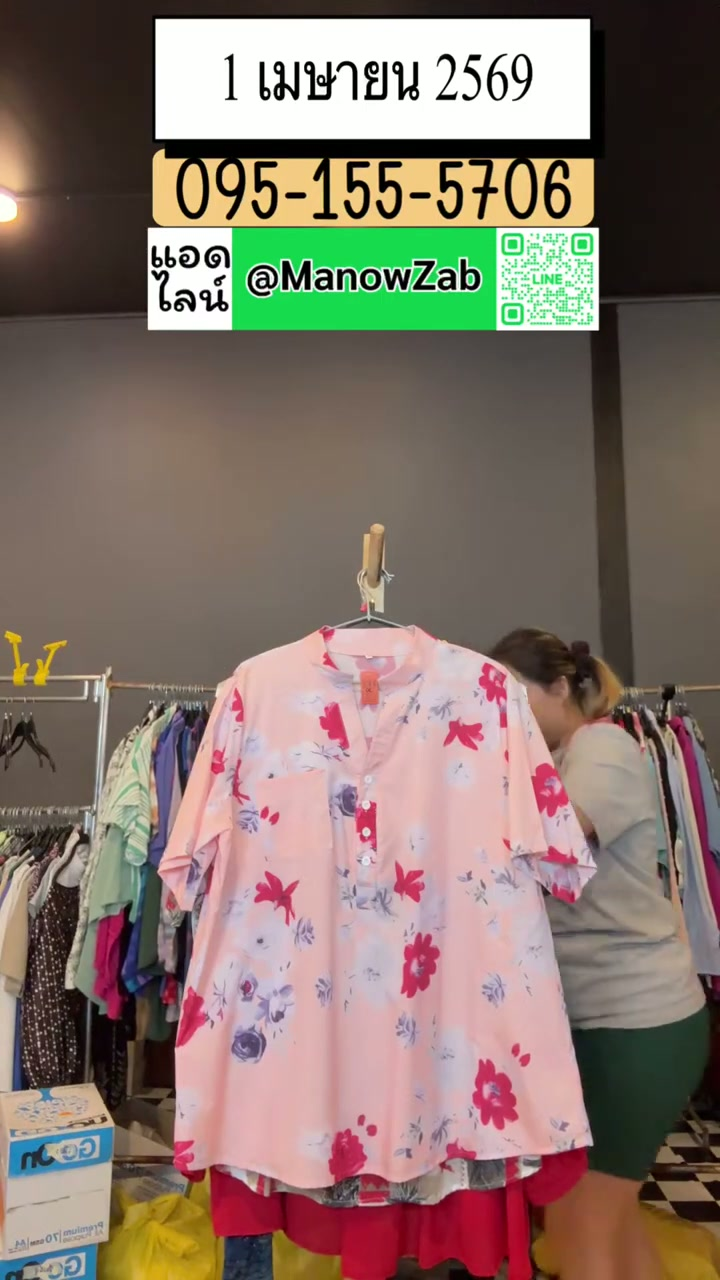display_shirt: (160, 628, 594, 1190)
